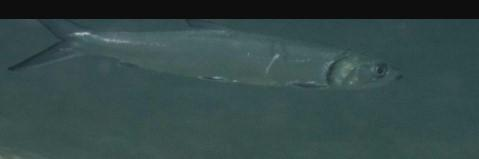Indo-Pacific Tarpon: (5, 19, 406, 96)
